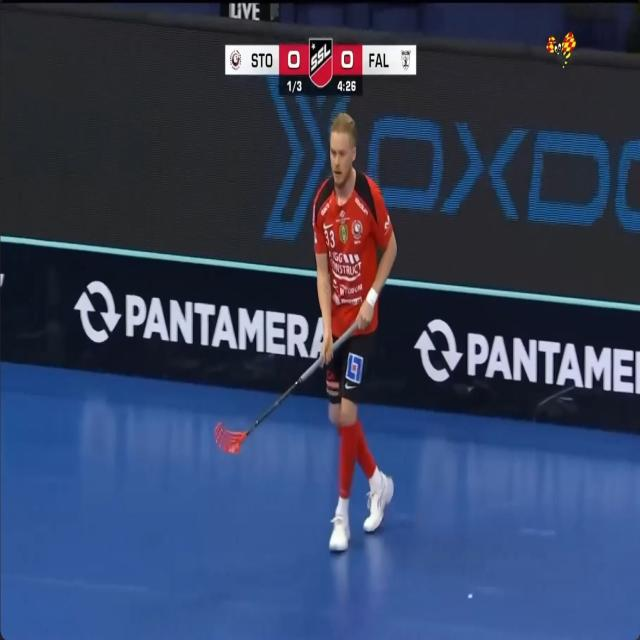player: (312, 114, 397, 550)
